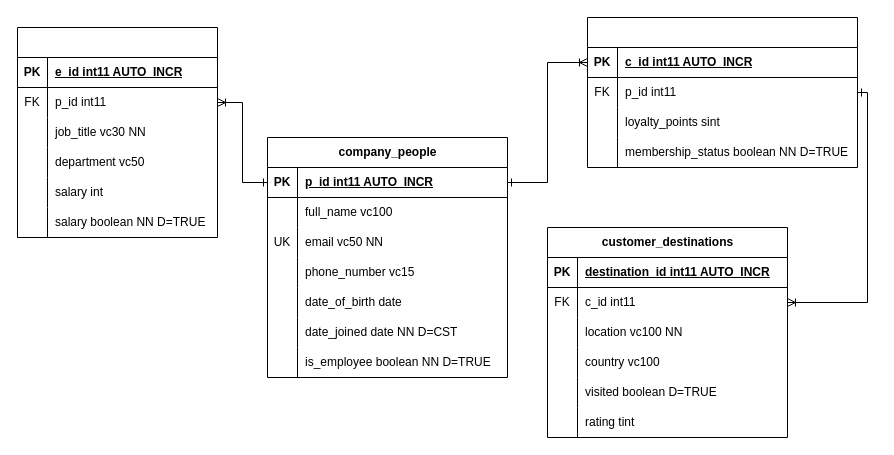
This 894x455 diagram has some shape labels left out. The box of each missing label's shape, as (x1, y1, x2, y2) in pixels:
customers: (586, 16, 858, 168)
employees: (16, 26, 218, 238)
